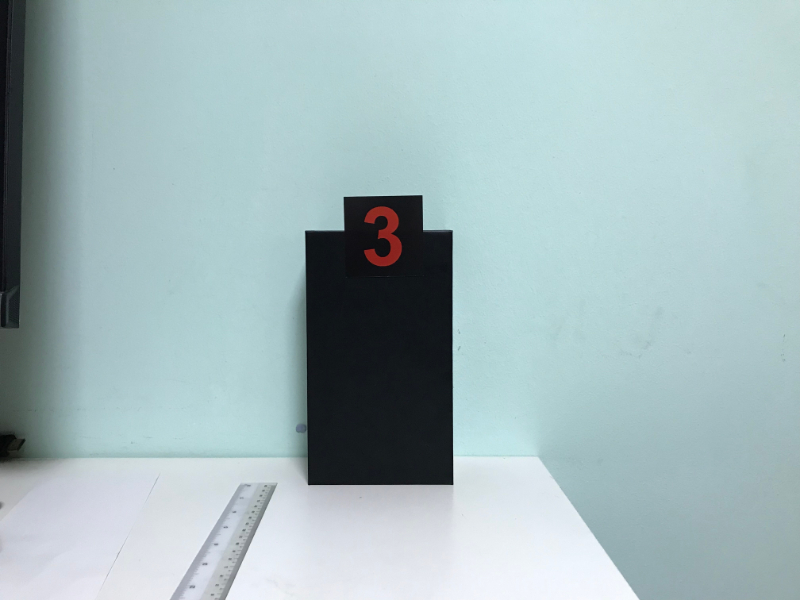Three-8: (349, 199, 422, 275)
